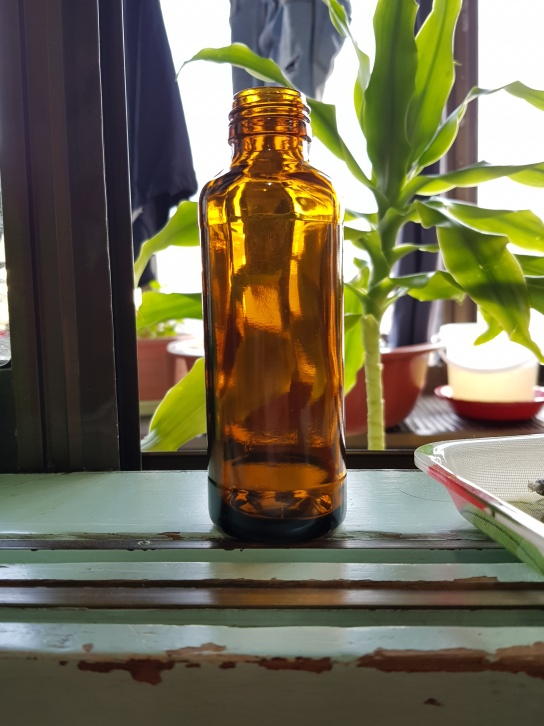Glass: (197, 85, 349, 550)
